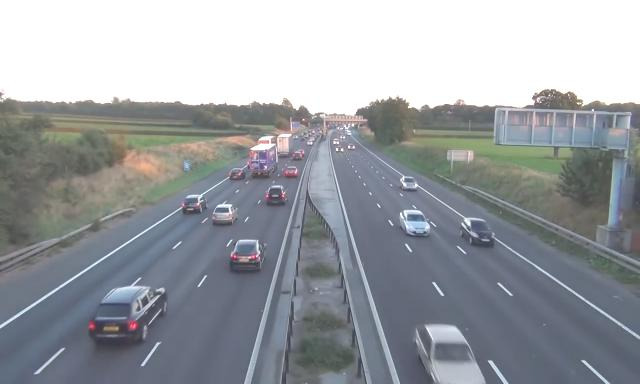caminhaop: (249, 143, 279, 179), (277, 133, 293, 158), (257, 136, 277, 144)
carro: (89, 284, 168, 348), (413, 320, 488, 384), (230, 237, 268, 276), (461, 217, 495, 246), (398, 210, 431, 238), (211, 204, 240, 226), (182, 194, 208, 215), (265, 187, 288, 207), (230, 168, 246, 181), (284, 166, 299, 179), (294, 151, 304, 160), (347, 143, 356, 151), (296, 149, 306, 156), (335, 145, 344, 152), (333, 138, 339, 146), (339, 134, 346, 140), (308, 140, 314, 146), (303, 134, 309, 139), (293, 135, 299, 139), (301, 136, 305, 142), (310, 137, 316, 141), (299, 133, 304, 137)
van: (345, 130, 353, 136)
